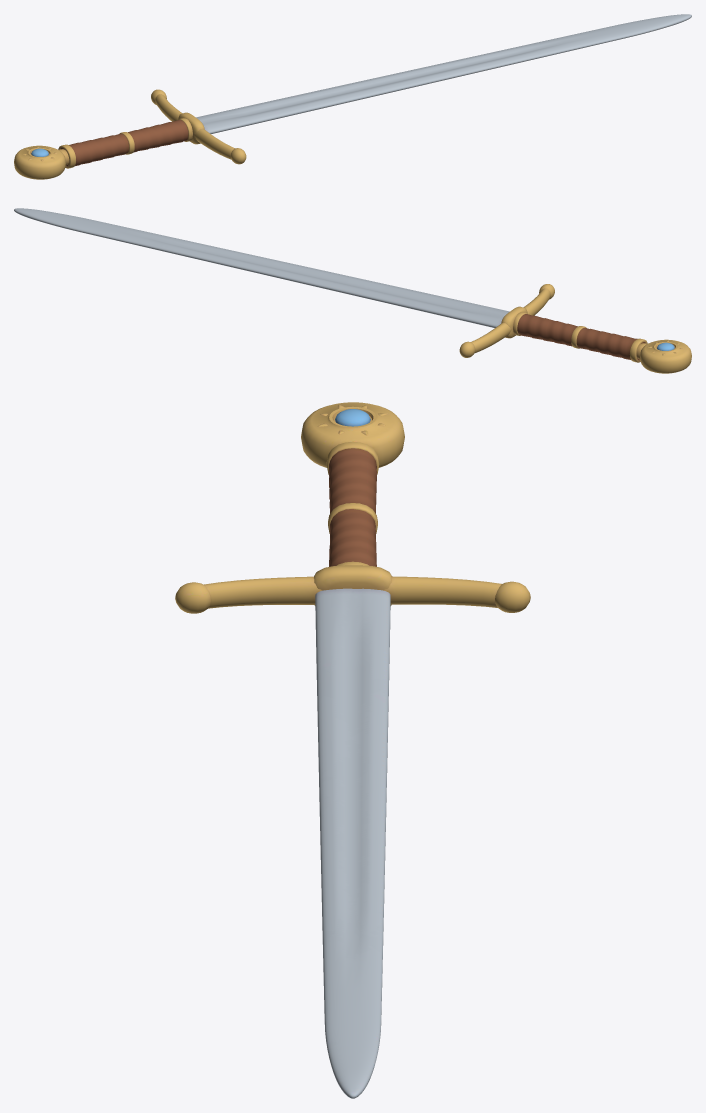
File: longsword.glb
3 renders of one model, top to bottom at view 1: azimuth 30°, elevation 25°; view 2: azimuth 150°, elevation 25°; view 3: azimuth 270°, elevation 25°, orthographic. The views are drawn at different scales.
Parts seen in each view (by area): view 1: longsword_body; view 2: longsword_body; view 3: longsword_body.
Boxes of the visible parts, x1,y1,x2,y2 form: longsword_body: [14, 14, 691, 179]; longsword_body: [14, 208, 691, 373]; longsword_body: [175, 402, 530, 1098].
Size of the model in its own units: 1.12 by 0.0426 by 0.2562.
Materials: 1 (1 with a texture image).
